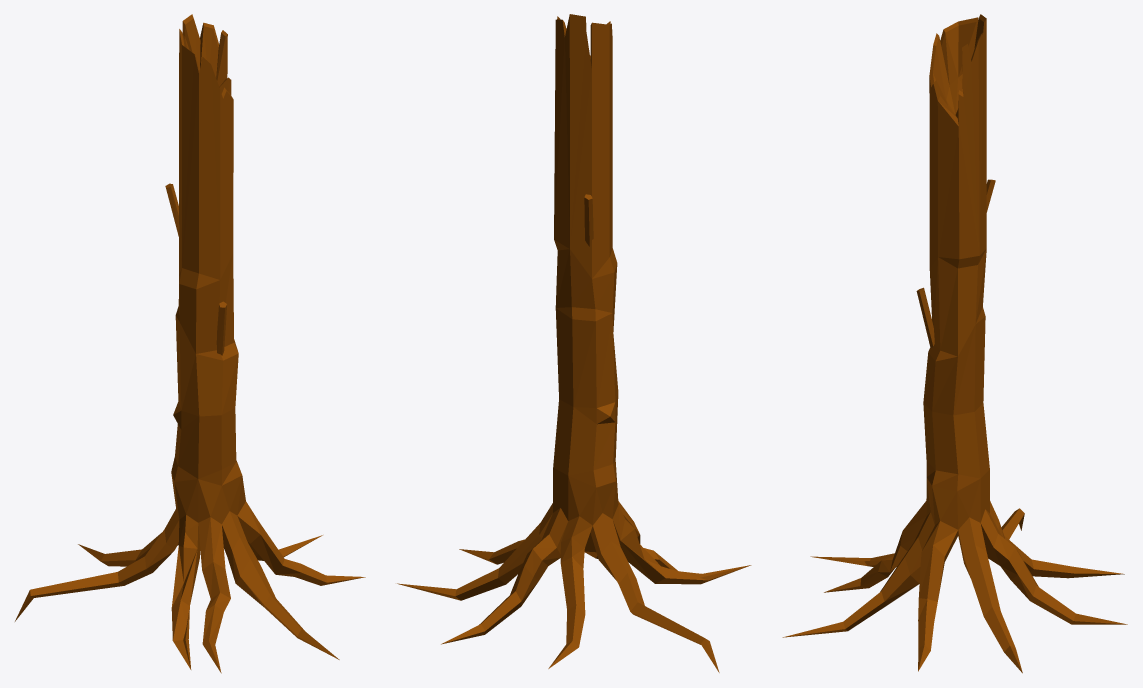
The model's file is Trunk 3.FBX.
3 views of the same model, side by side, from view 1: azimuth 30°, elevation 25°; view 2: azimuth 150°, elevation 25°; view 3: azimuth 270°, elevation 25° (orthographic). The views are drawn at different scales.
Parts seen in each view (by area): view 1: Cylinder; view 2: Cylinder; view 3: Cylinder.
Part boxes in pixels (bbox=[...]): Cylinder: bbox=[15, 14, 365, 673]; Cylinder: bbox=[397, 14, 751, 672]; Cylinder: bbox=[782, 14, 1127, 673].
Bounding box in the file's own units: 15.54 × 28.13 × 14.77.
